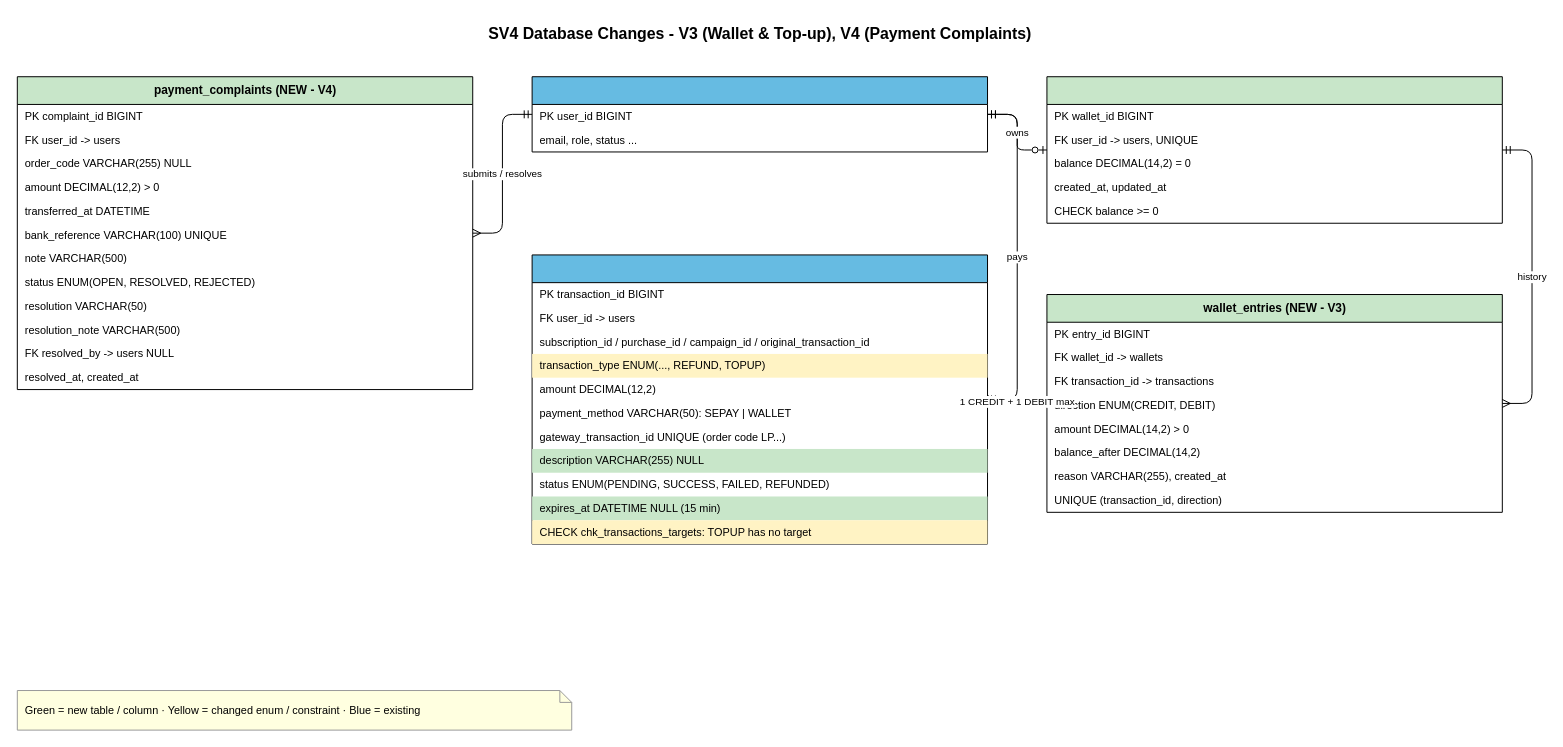
Some shapes in this 1563 by 747 pixel diagram are drawn without their labels. The box of each missing label's shape, as (x1, y1, x2, y2) in pixels:
transactions (existing, changed in V3): (531, 254, 988, 544)
users (existing): (531, 76, 988, 152)
wallets (NEW - V3): (1046, 76, 1502, 223)
